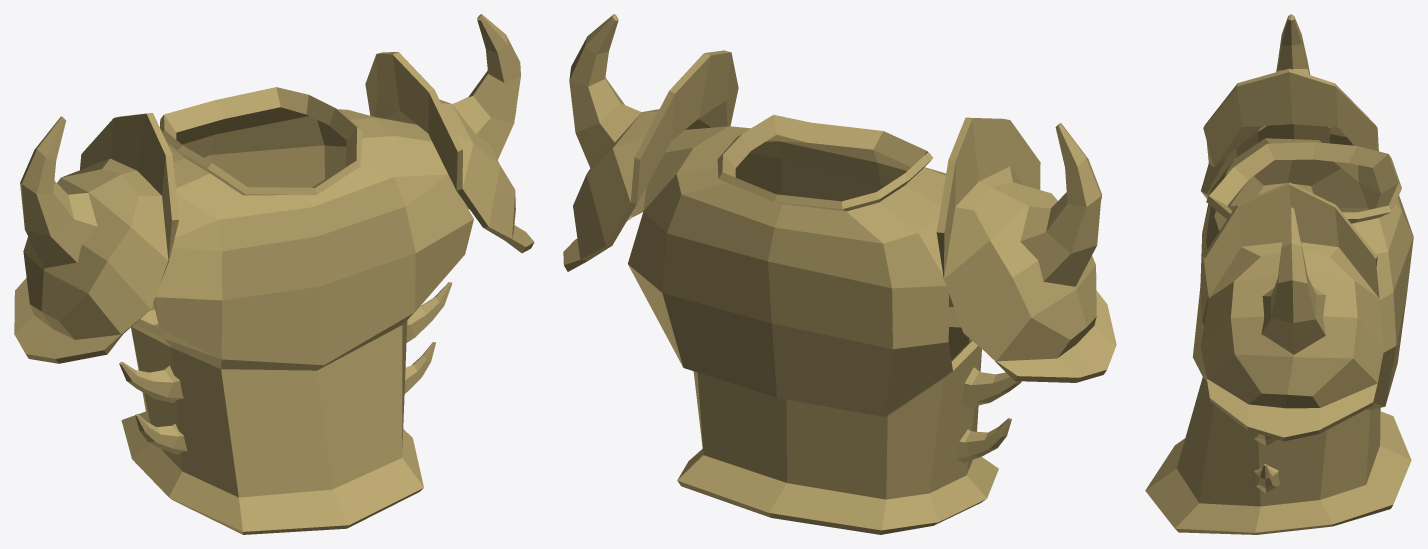
File: chest_golden.glb
3 views of the same model, side by side, from view 1: azimuth 30°, elevation 25°; view 2: azimuth 150°, elevation 25°; view 3: azimuth 270°, elevation 25° (orthographic). The views are drawn at different scales.
Visible parts, largest first — view 1: Armor_Golden; view 2: Armor_Golden; view 3: Armor_Golden.
Boxes of the visible parts, <box> form: Armor_Golden: <box>14,14,534,534</box>; Armor_Golden: <box>563,14,1116,534</box>; Armor_Golden: <box>1145,14,1413,534</box>.
Size of the model in its own units: 0.5 by 0.3902 by 0.2466.
